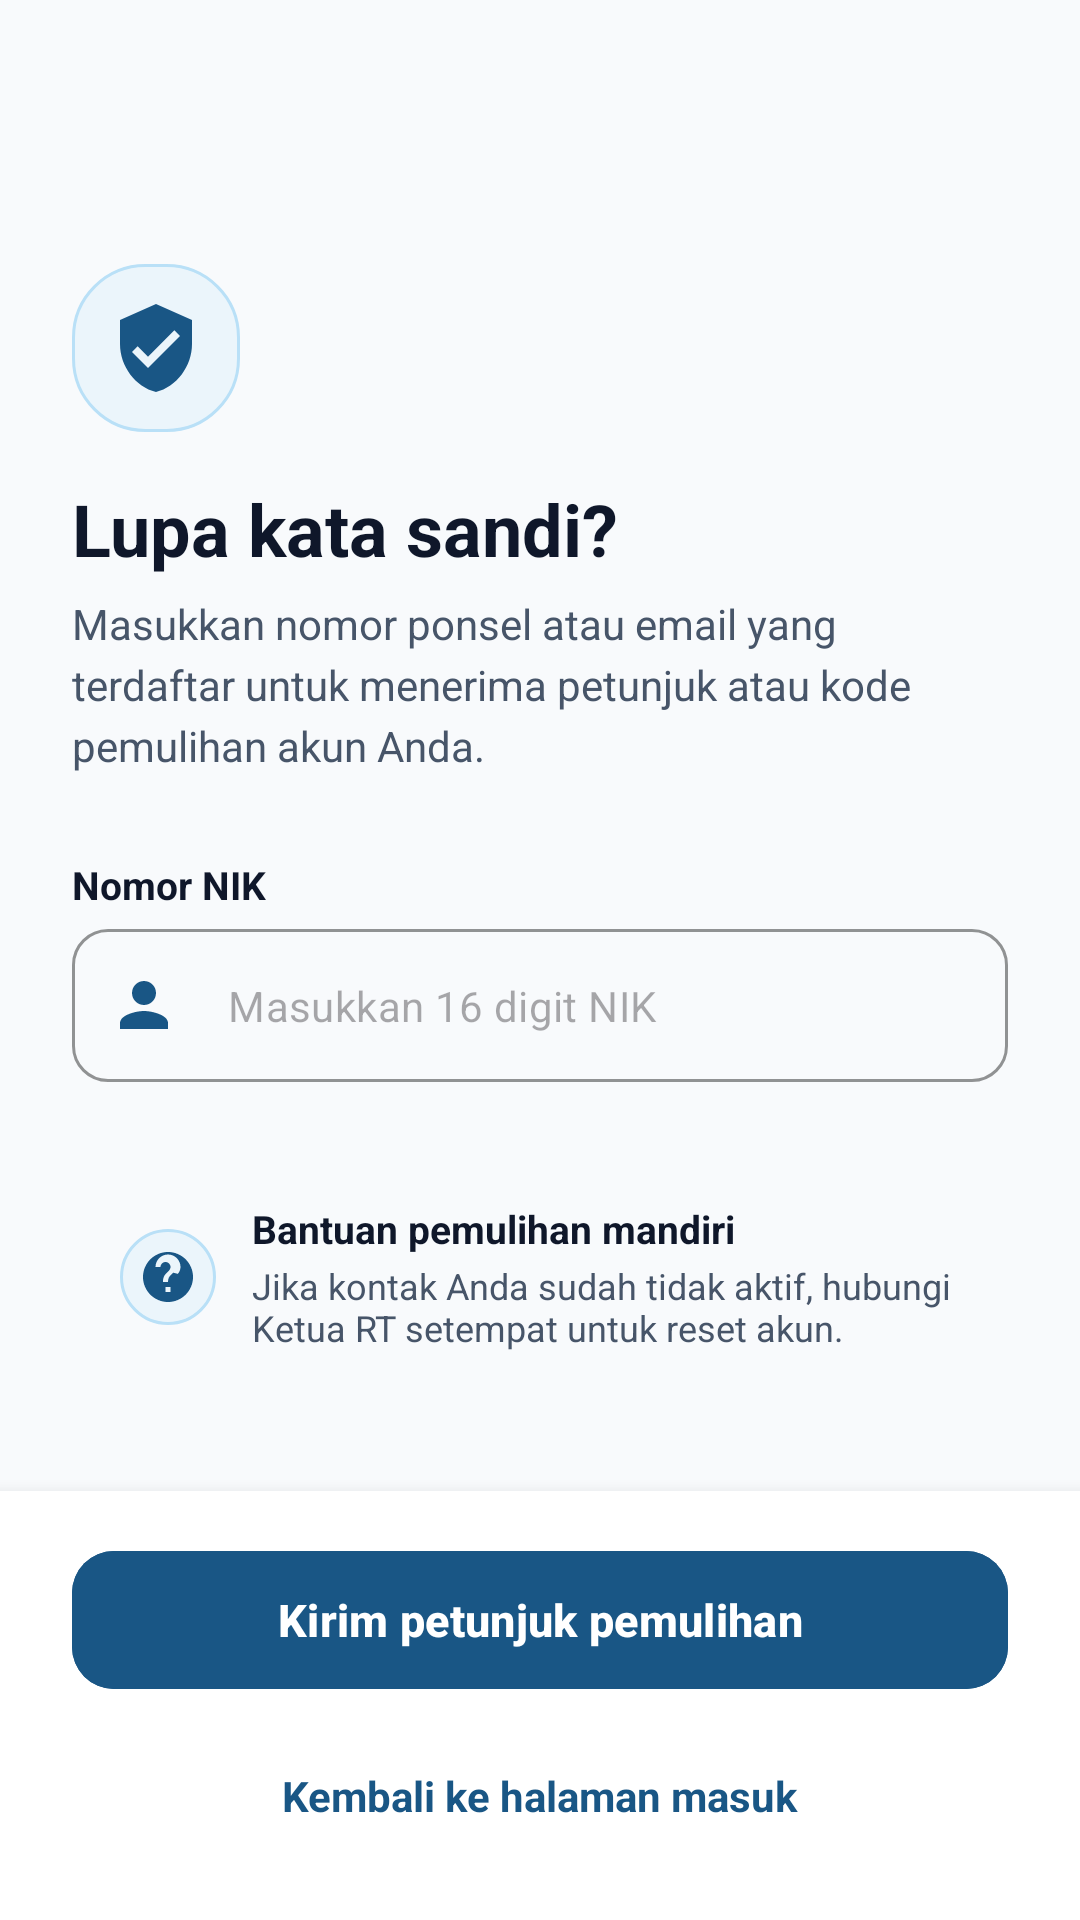

Icons on this 1080 × 1920 Android screen, each with its box as [x1, y1, x2, y2]:
help support: [120, 1229, 216, 1325]
shield security: [72, 264, 240, 432]
